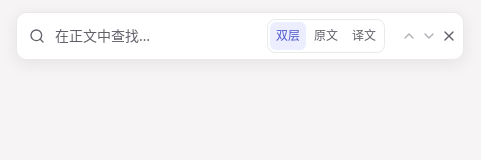
Scenario: NEW-356 查找条范围选择 › 译文层存在：范围选择出现；切换范围重新计数（译文层 0 命中如实显示）
Expected: the element named "查找范围" is shown, [267, 19, 385, 53]
// 原文层词：双层 3 处（当前第 1 处）
Type "reading" into the field named "查找正文". click: (159, 36)
box: [55, 20, 263, 52]
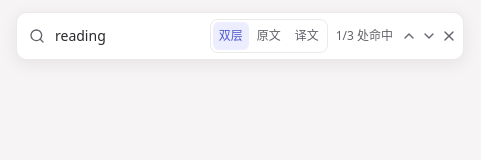
Result: the text "1/3 处命中" is shown at [332, 28, 397, 44]
// 切到译文 → 0 命中（诚实「无结果」）
Click the radio button labelled "译文". click: (307, 36)
box: [289, 22, 325, 50]
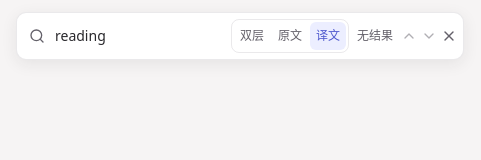
Result: the text "无结果" is shown at [357, 27, 393, 44]
// 切到原文 → 3 处（重新从第 1 处开始）
Click the radio button labelled "原文". click: (290, 36)
box: [272, 22, 308, 50]
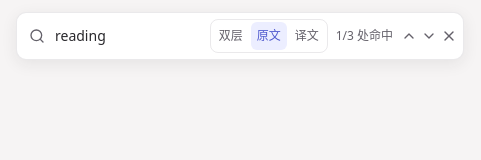
Result: the text "1/3 处命中" is shown at [332, 28, 397, 44]
